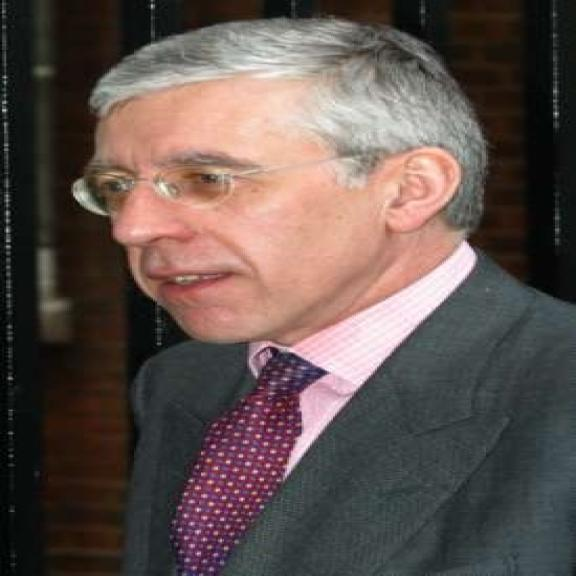face: (91, 77, 464, 346)
